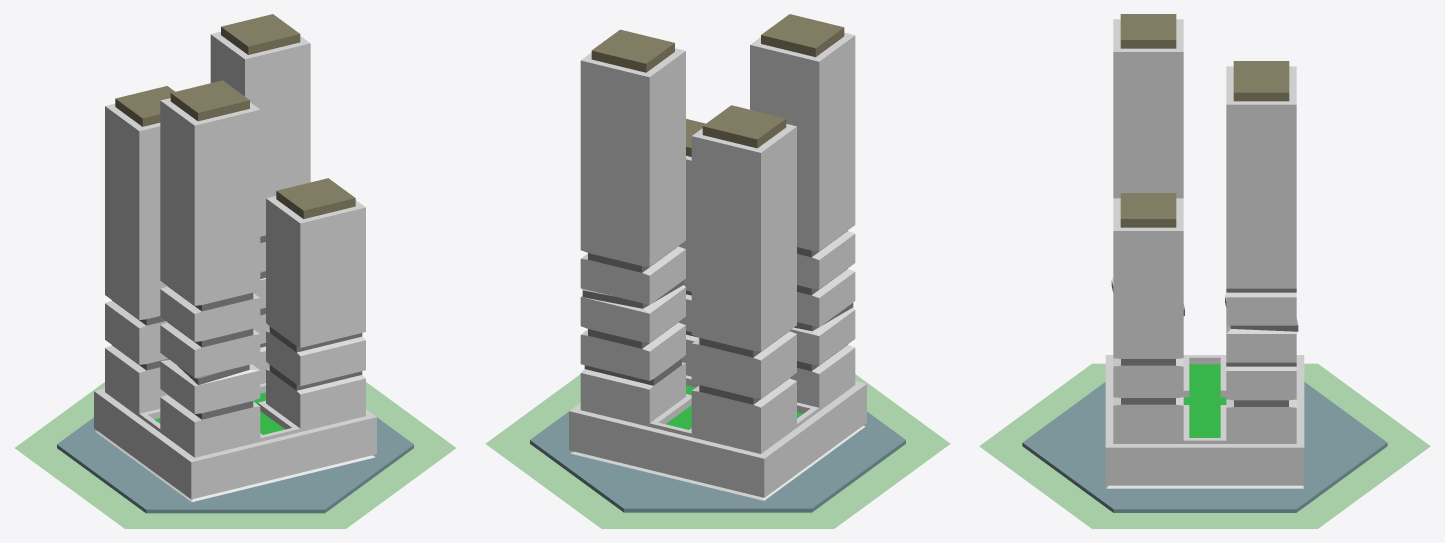
File: Temp_Building10.fbx
3 views of the same model, side by side, from view 1: azimuth 30°, elevation 25°; view 2: azimuth 150°, elevation 25°; view 3: azimuth 270°, elevation 25° (orthographic). The views are drawn at different scales.
Visible parts, largest first — view 1: 立方体.003; view 2: 立方体.003; view 3: 立方体.003.
Boxes of the visible parts, x1=… form: 立方体.003: x1=15, y1=14, x2=455, y2=528; 立方体.003: x1=485, y1=14, x2=950, y2=528; 立方体.003: x1=979, y1=14, x2=1430, y2=528.
Size of the model in its own units: 165 by 182 by 190.
